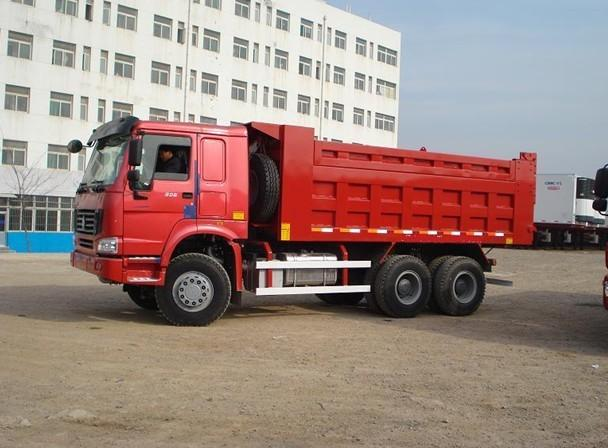truck: (60, 112, 544, 328)
